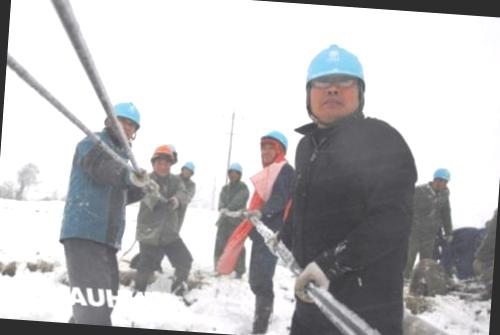person: (280, 32, 420, 335), (42, 97, 147, 326), (237, 123, 301, 335), (130, 138, 184, 293), (398, 163, 466, 286), (210, 159, 252, 281), (172, 159, 204, 244)
